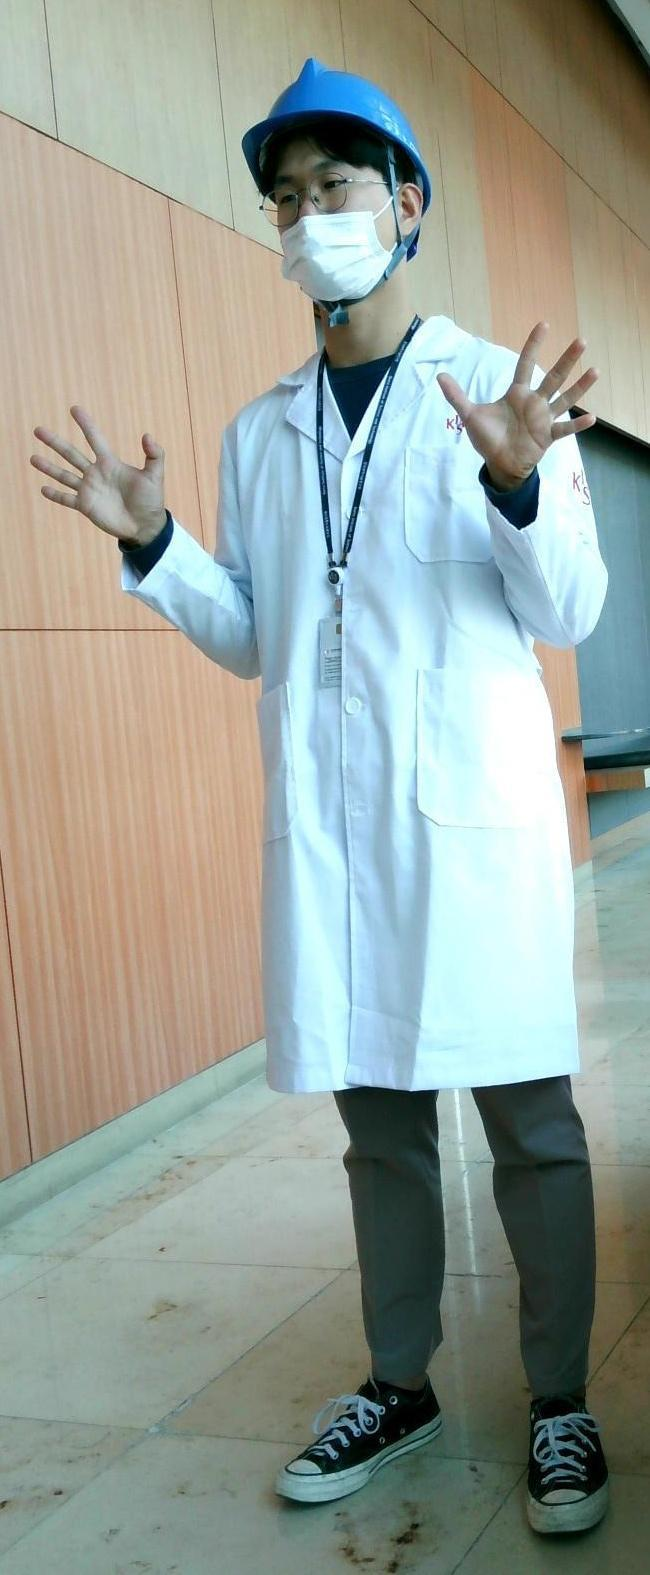lab_coat: (197, 334, 490, 1126)
